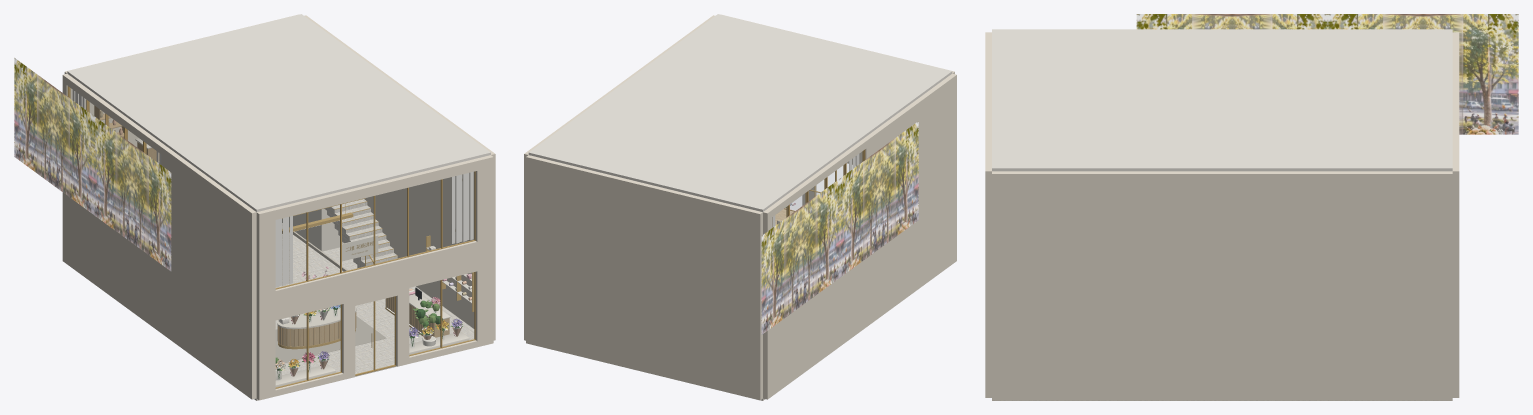
The model's file is flower_notes_interior.glb.
3 views of the same model, side by side, from view 1: azimuth 30°, elevation 25°; view 2: azimuth 150°, elevation 25°; view 3: azimuth 270°, elevation 25° (orthographic). The views are drawn at different scales.
Visible parts, largest first — view 1: L1_ceil, WALL_L0_W, WALL_L1_W_VIEW, WALL_L0_S, WALL_L1_W, WALL_L1_S, L0_vc, L0_floor, WALL_L0_E, L1_vc, L0_vcm, WALL_L1_E (+4 smaller); view 2: L1_ceil, WALL_L0_N, WALL_L1_N, WALL_L1_W_VIEW, WALL_L0_W, WALL_L1_W, WALL_L1_E; view 3: L1_ceil, WALL_L0_E, WALL_L1_E, WALL_L1_W_VIEW, WALL_L1_N, WALL_L1_S, WALL_L0_N, WALL_L0_S.
Boxes of the visible parts, <box> form: L1_ceil: <box>67,14,490,211</box>; WALL_L0_W: <box>62,192,256,399</box>; WALL_L1_W_VIEW: <box>14,58,171,271</box>; WALL_L0_S: <box>256,248,493,400</box>; WALL_L1_W: <box>62,73,256,303</box>; WALL_L1_S: <box>256,155,493,304</box>; L0_vc: <box>275,208,471,387</box>; L0_floor: <box>254,199,474,400</box>; WALL_L0_E: <box>364,187,495,340</box>; L1_vc: <box>72,90,473,287</box>; L0_vcm: <box>275,198,475,388</box>; WALL_L1_E: <box>304,15,495,244</box>; L1_ceil: <box>528,14,952,211</box>; WALL_L0_N: <box>526,248,762,400</box>; WALL_L1_N: <box>526,155,762,304</box>; WALL_L1_W_VIEW: <box>761,121,918,334</box>; WALL_L0_W: <box>763,165,956,399</box>; WALL_L1_W: <box>763,73,956,234</box>; WALL_L1_E: <box>524,15,715,244</box>; L1_ceil: <box>992,29,1452,171</box>; WALL_L0_E: <box>992,284,1452,400</box>; WALL_L1_E: <box>992,171,1452,284</box>; WALL_L1_W_VIEW: <box>1136,14,1518,134</box>; WALL_L1_N: <box>1452,32,1459,281</box>; WALL_L1_S: <box>985,32,991,281</box>; WALL_L0_N: <box>1452,281,1459,397</box>; WALL_L0_S: <box>985,281,991,397</box>.
Size of the model in its own units: 11.3 by 7.8 by 16.2.
Materials: 11 (5 with a texture image).
